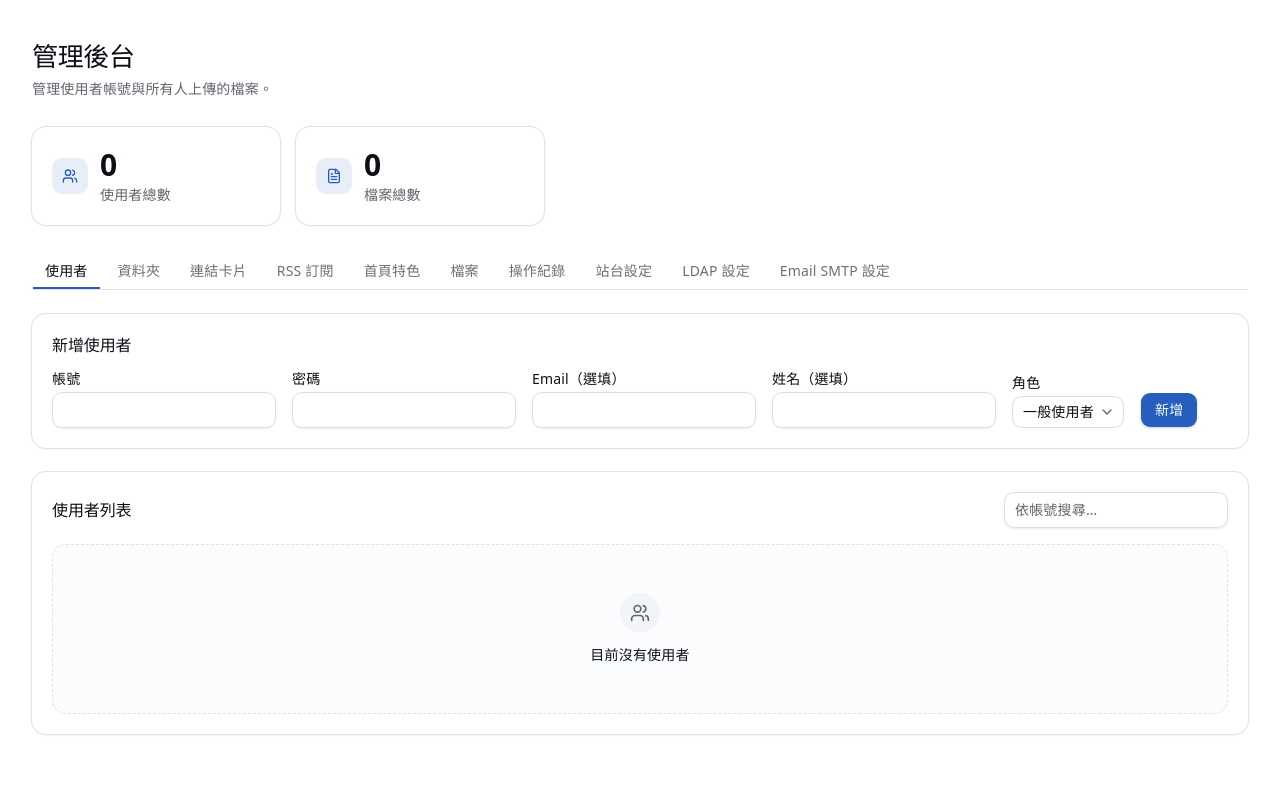
Test: AdminPage › keeps a folder row's 儲存 disabled until something in it actually changes
The image size is (1280, 800).
expect the heading "使用者列表" is shown: met, box x1=52 y1=499 x2=132 y2=521
Click the tab "資料夾".
click(139, 270)  # box x1=104 y1=252 x2=173 y2=288
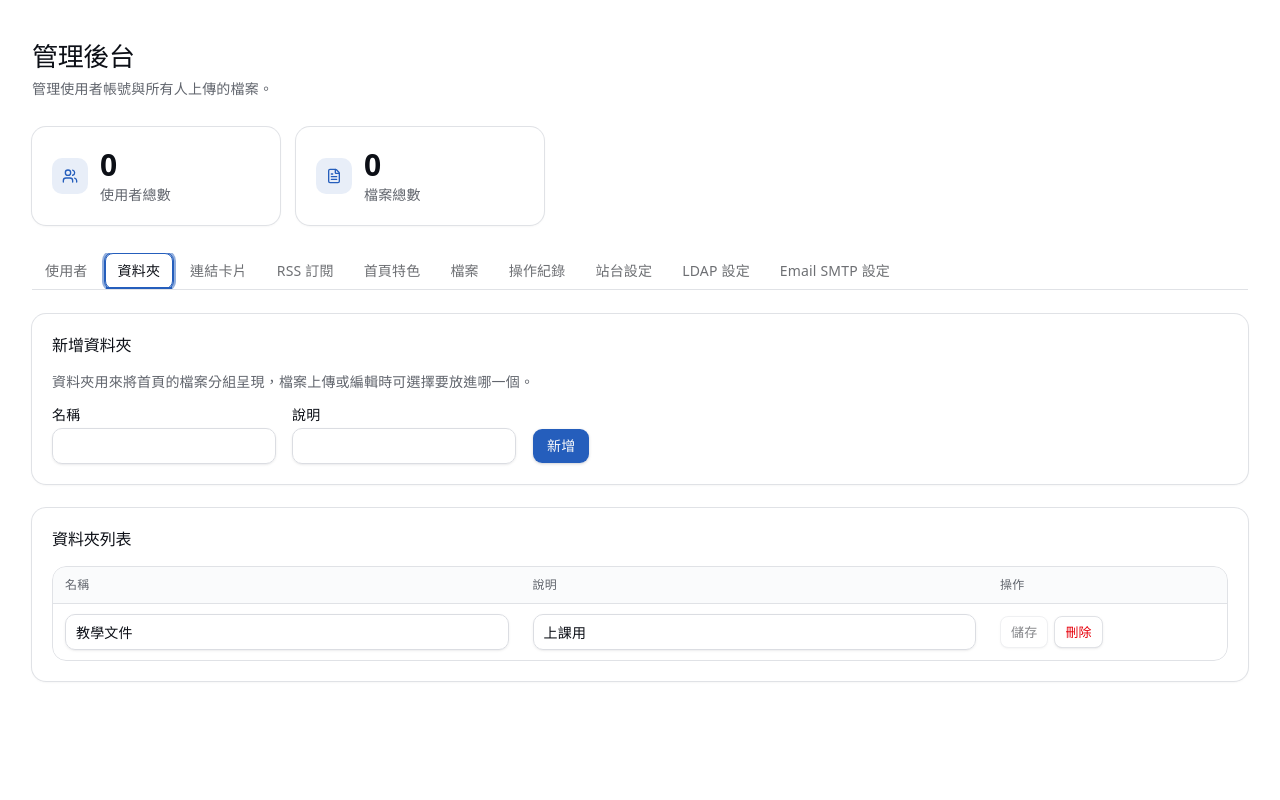
expect the button "儲存" is disabled: met, box x1=1000 y1=616 x2=1048 y2=648
Type "（舊）" into the 1st field showing "教學文件".
click(287, 632); type("（舊）")  # box x1=65 y1=614 x2=508 y2=650
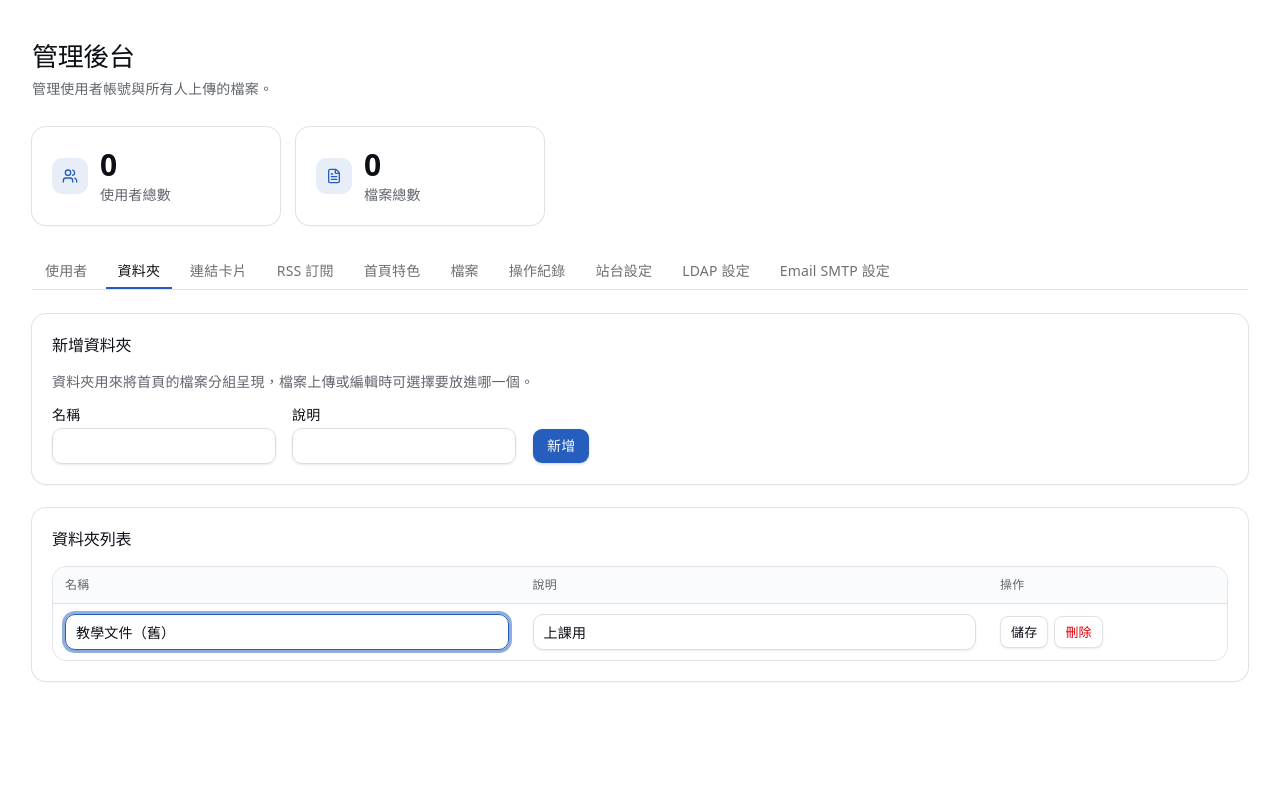
expect the button "儲存" is enabled: met, box x1=1000 y1=616 x2=1048 y2=648
